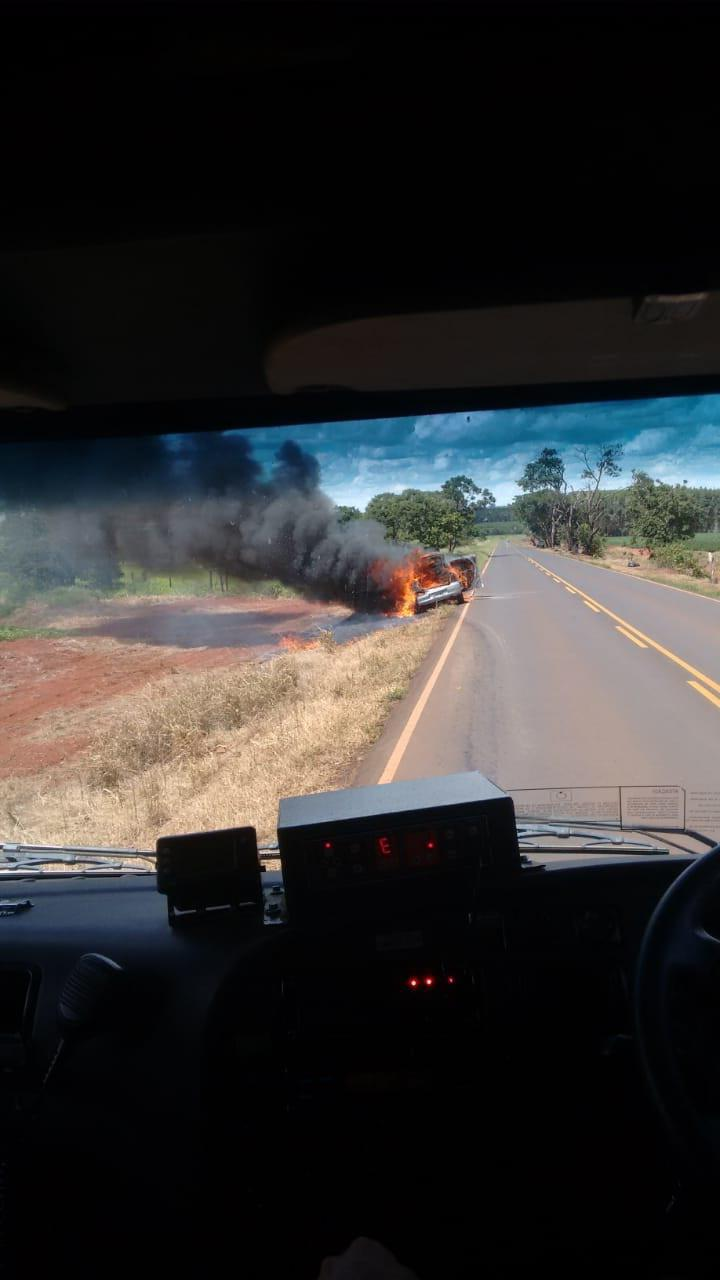Fire: (388, 562, 420, 617), (450, 570, 475, 589), (276, 636, 306, 651)
